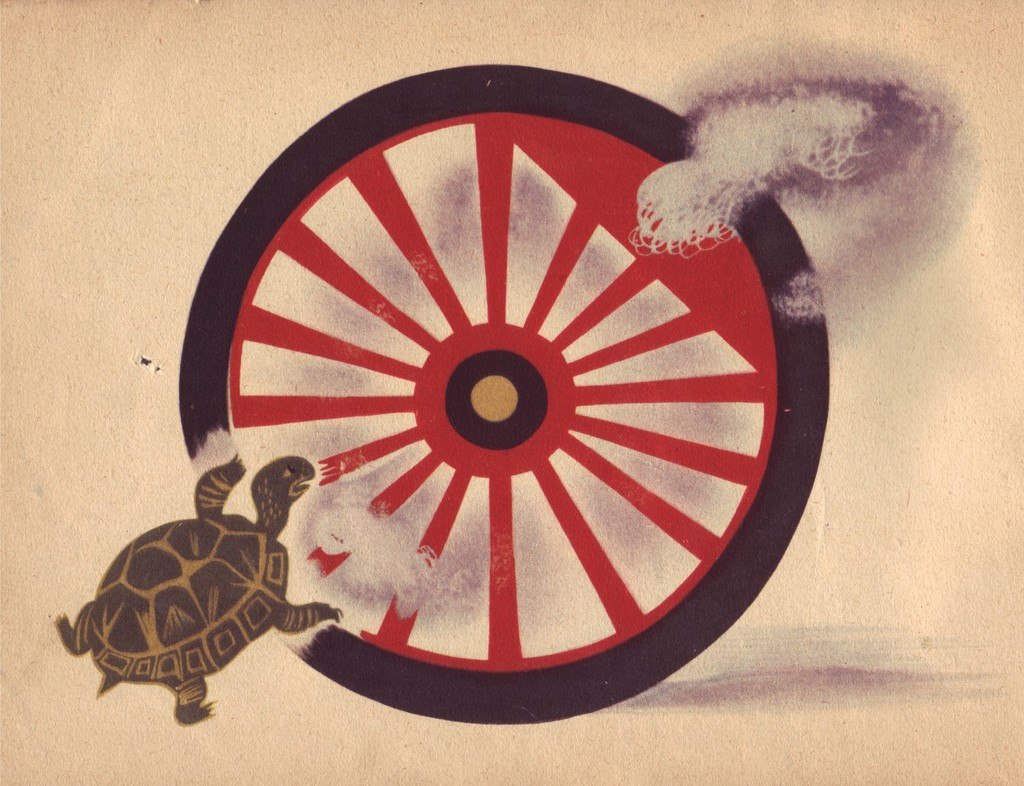Sea turtles: (50, 449, 343, 723)
